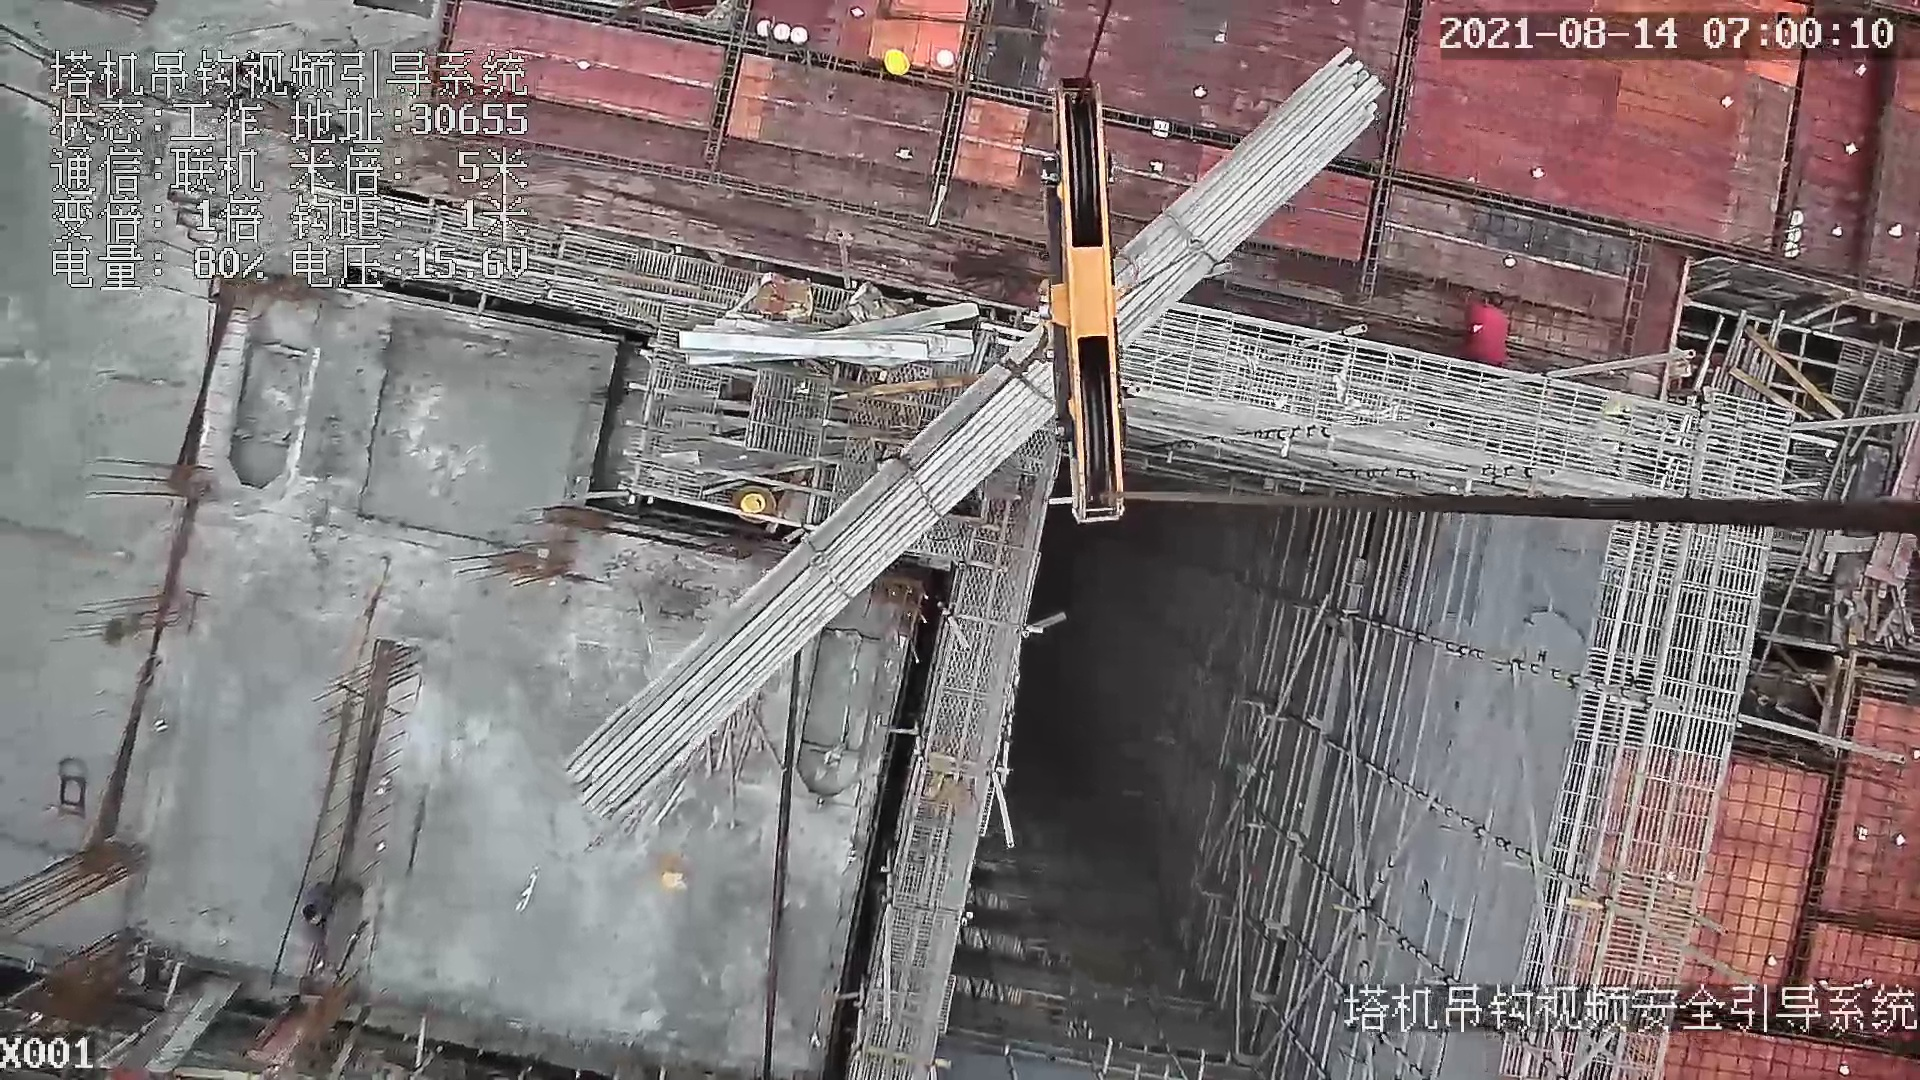helmet: (883, 49, 910, 75), (739, 493, 764, 514)
hook: (1032, 74, 1145, 526)
person: (1456, 286, 1513, 367), (298, 876, 368, 936)
rebar: (567, 42, 1389, 814)
